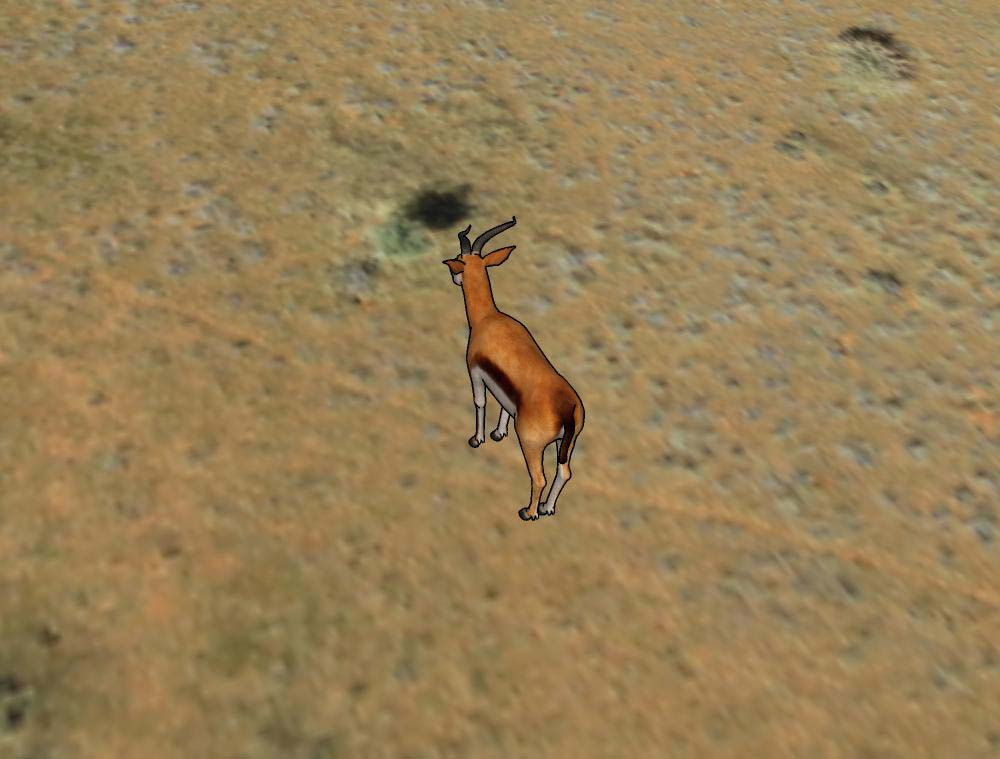springbok: (433, 219, 591, 525)
